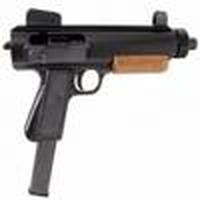gun: (1, 10, 198, 200)
